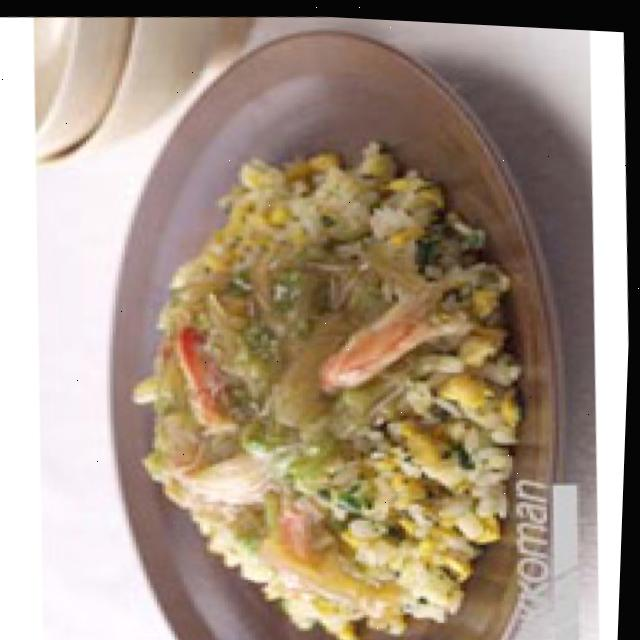米饭主食: (69, 4, 525, 640)
